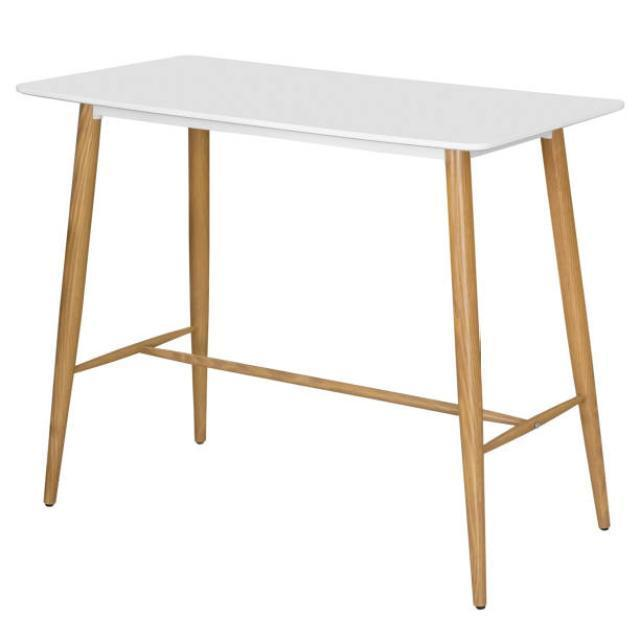table: (16, 52, 624, 609)
